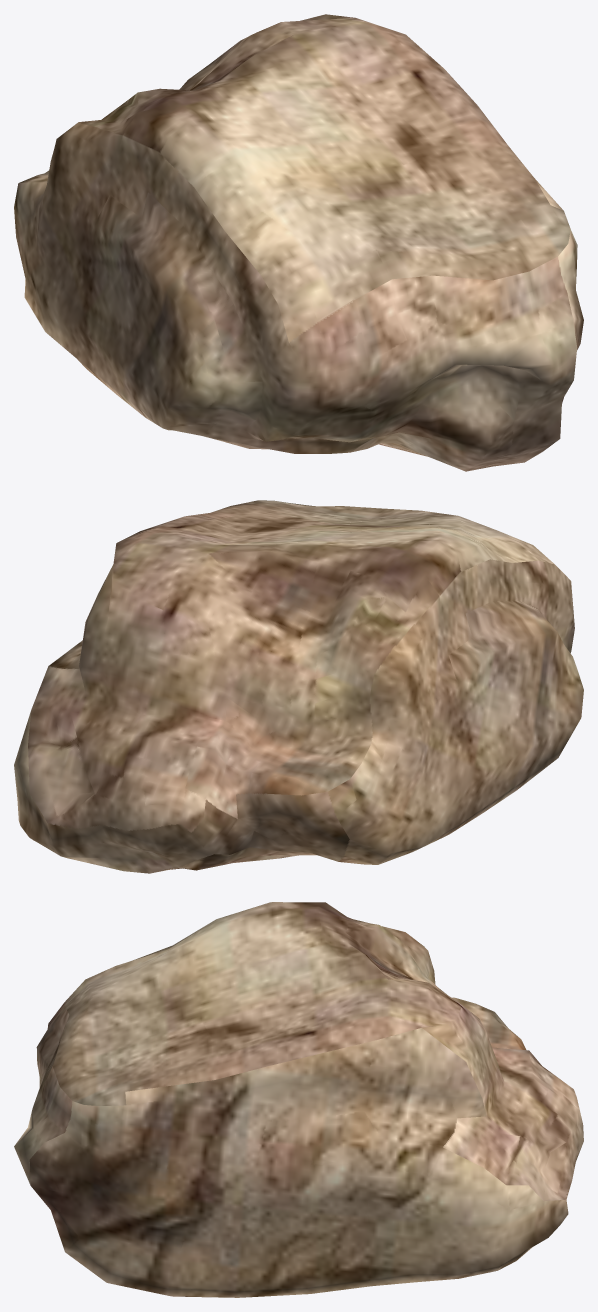
Rendered from rockabay.fbx.
3 views of the same model, one above another, from view 1: azimuth 30°, elevation 25°; view 2: azimuth 150°, elevation 25°; view 3: azimuth 270°, elevation 25° (orthographic). The views are drawn at different scales.
Visible parts, largest first — view 1: Rock_1_1; view 2: Rock_1_1; view 3: Rock_1_1.
Boxes of the visible parts, left/top/right/bottom form: Rock_1_1: left=14, top=14, right=583, bottom=471; Rock_1_1: left=14, top=500, right=583, bottom=873; Rock_1_1: left=14, top=902, right=583, bottom=1297.
Size of the model in its own units: 27.52 by 21.93 by 39.03.
1 material, 1 textured.
